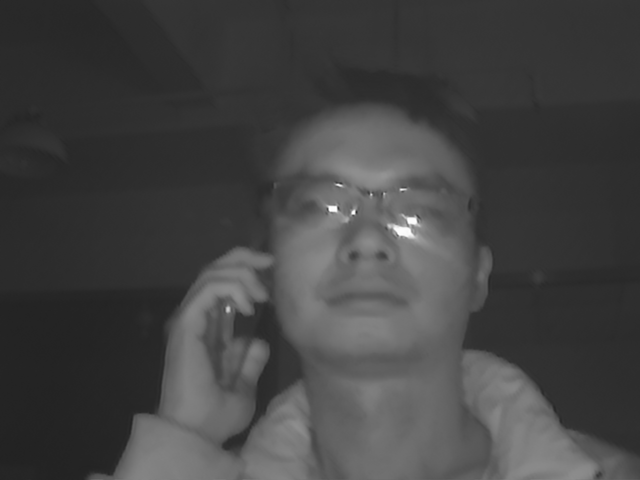hand: (155, 245, 275, 438)
